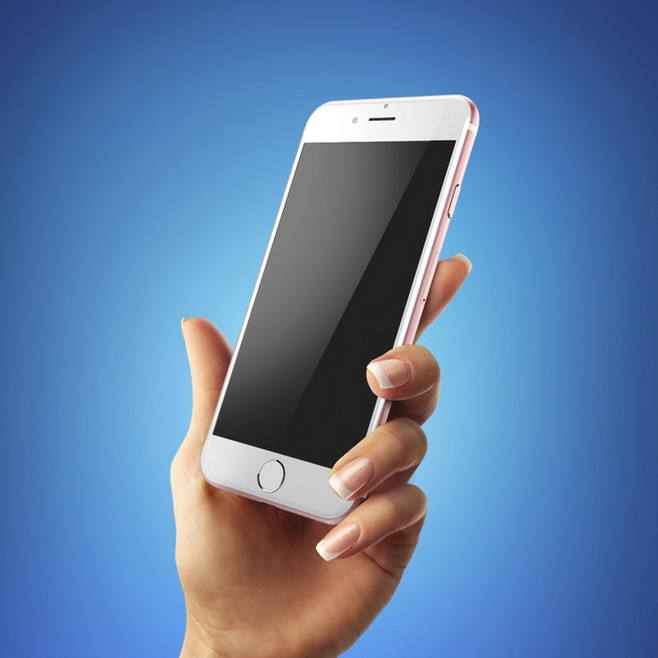phone: (154, 87, 493, 635)
